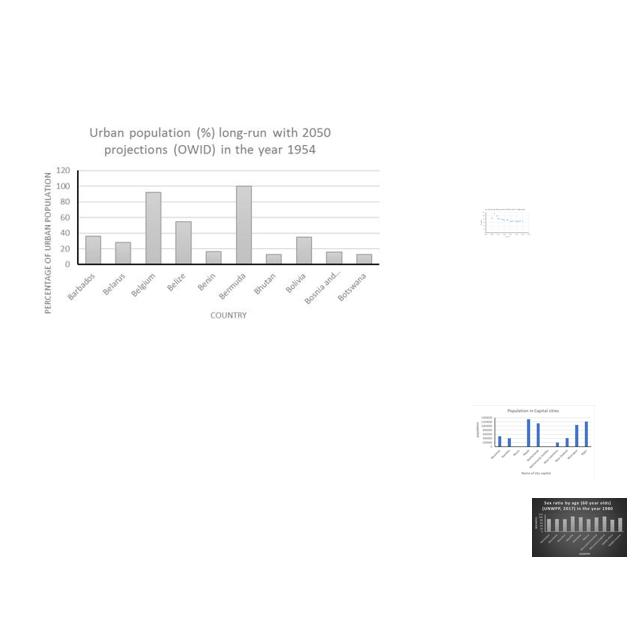Graph: (35, 121, 385, 323), (472, 405, 595, 478), (532, 498, 627, 557), (479, 208, 531, 238)
